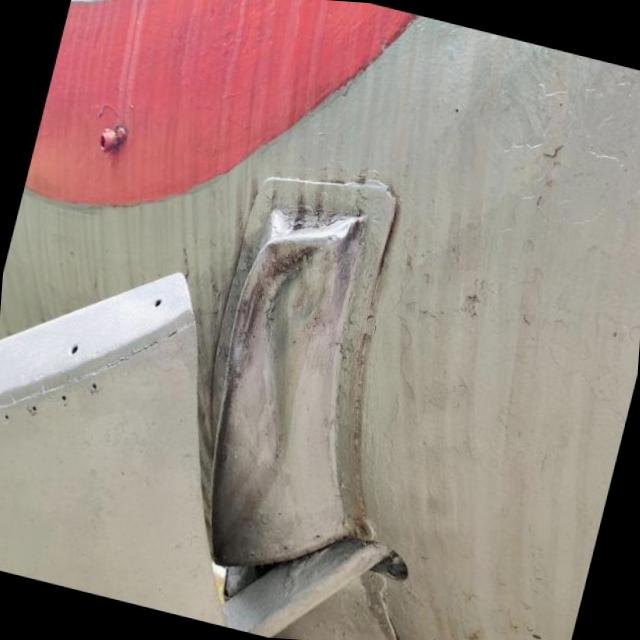dent: (205, 202, 364, 570)
